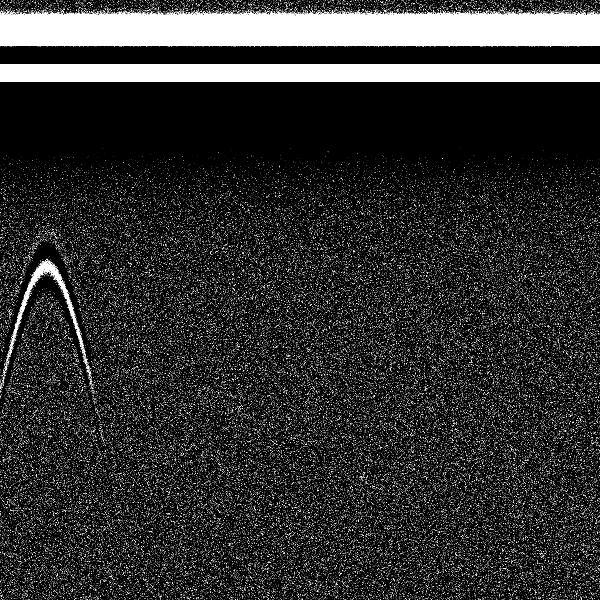pipe: (6, 6, 88, 320)
